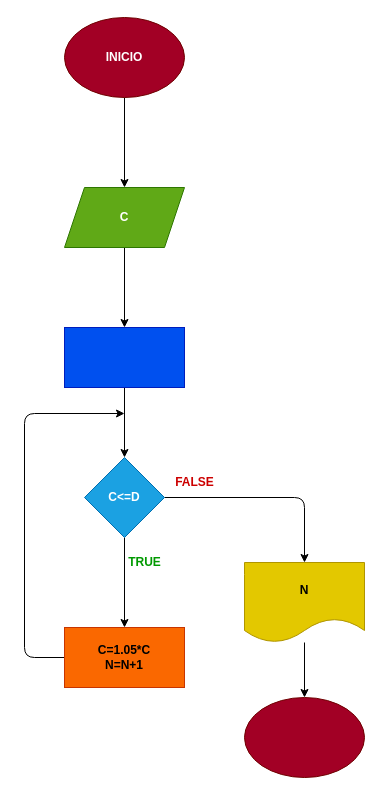
This 382x795 diagram has some shape labels left out. Here are the shapes that lost their labels. From the top down, the centre of each, then its label:
At (x=124, y=357): "N=0 D=2*C".
At (x=304, y=737): "FIN".
